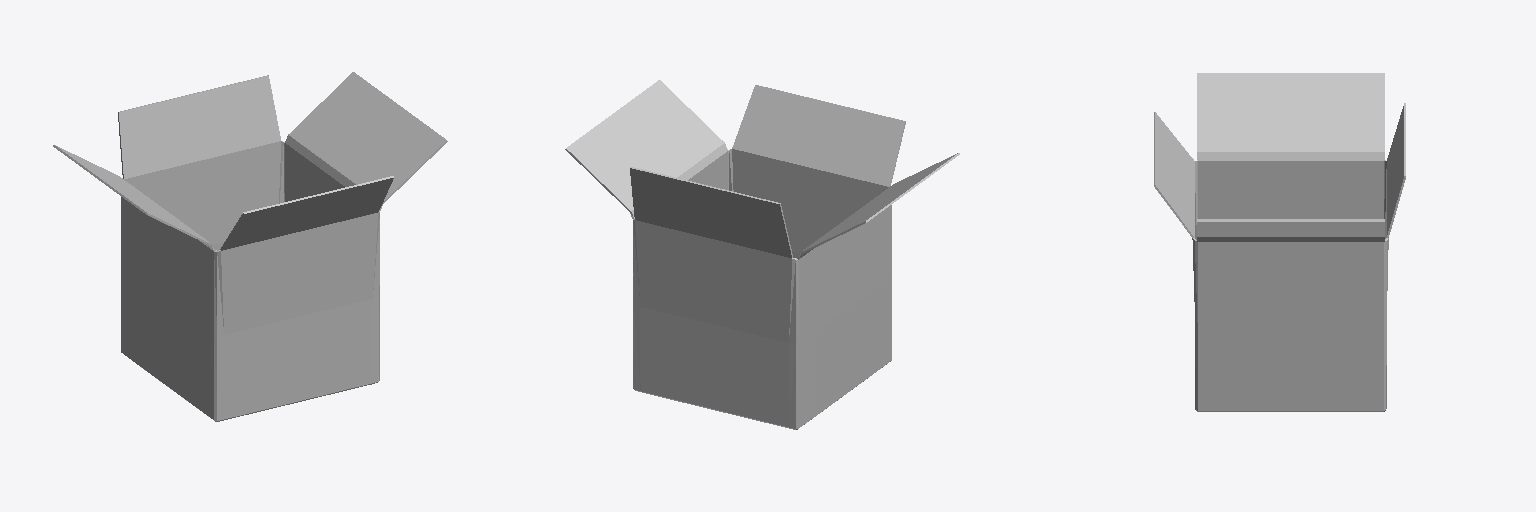
Rendered from Cardboard.011.obj.
3 renders of one model, left to right at view 1: azimuth 30°, elevation 25°; view 2: azimuth 150°, elevation 25°; view 3: azimuth 270°, elevation 25°, orthographic.
Parts seen in each view (by area): view 1: Cardboard.011_Cube.003, RedSticker_Plane.005; view 2: Cardboard.011_Cube.003; view 3: Cardboard.011_Cube.003, codeBArre.001.
Boxes of the visible parts, <box> form: Cardboard.011_Cube.003: <box>53,72,447,421</box>; RedSticker_Plane.005: <box>316,194,370,214</box>; Cardboard.011_Cube.003: <box>565,80,959,429</box>; Cardboard.011_Cube.003: <box>1154,73,1405,411</box>; codeBArre.001: <box>1285,290,1325,306</box>.
Size of the model in its own units: 1.63 by 1.2 by 1.18.